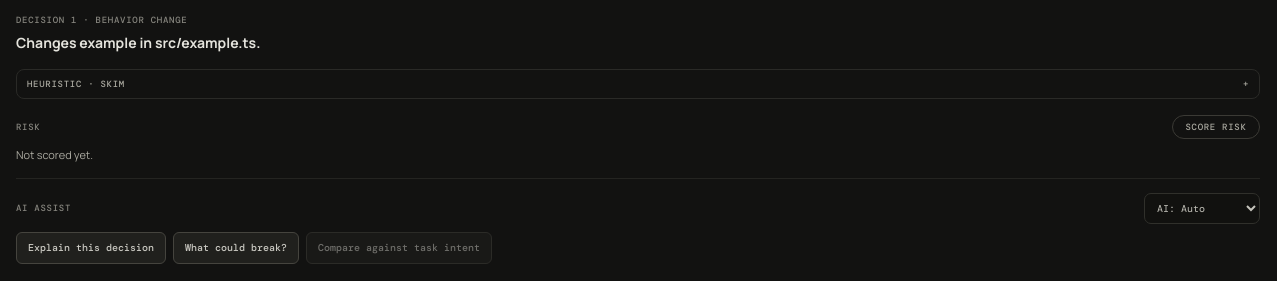
Test: diff review decision detail › does not invent a number when the model ignores the score format
Click the button "Score risk".
click(1216, 127)  # box x1=1172 y1=115 x2=1260 y2=139
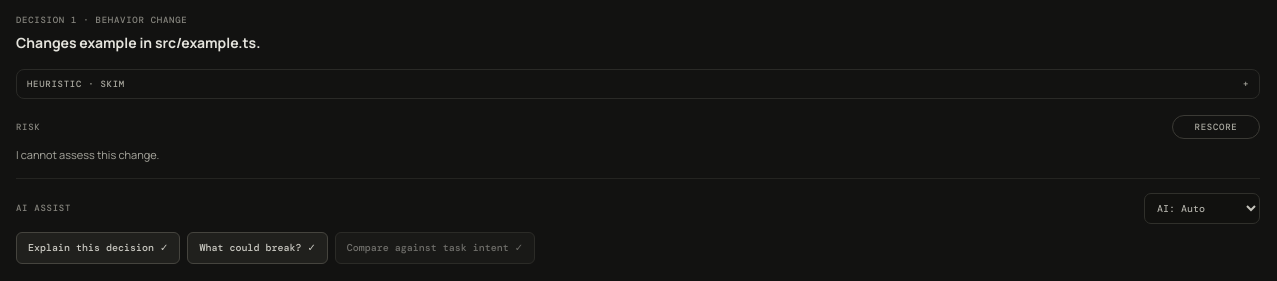
Now the text "I cannot assess this change." is shown, box x1=16 y1=147 x2=159 y2=162
